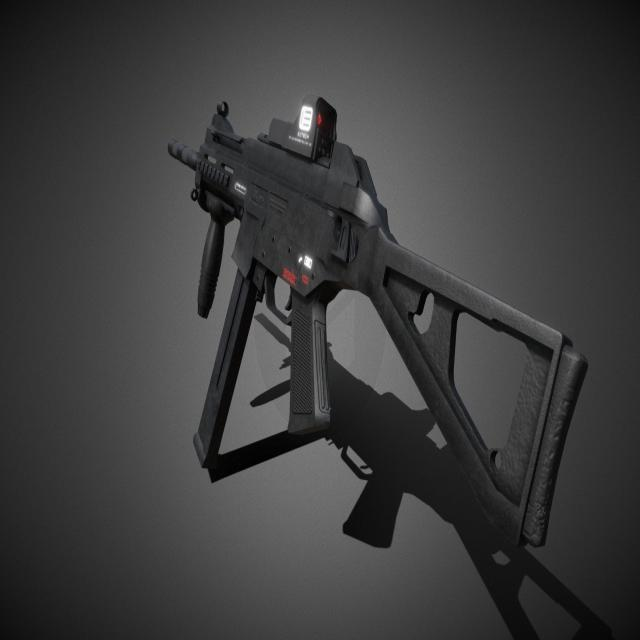SMG: (168, 100, 587, 550)
